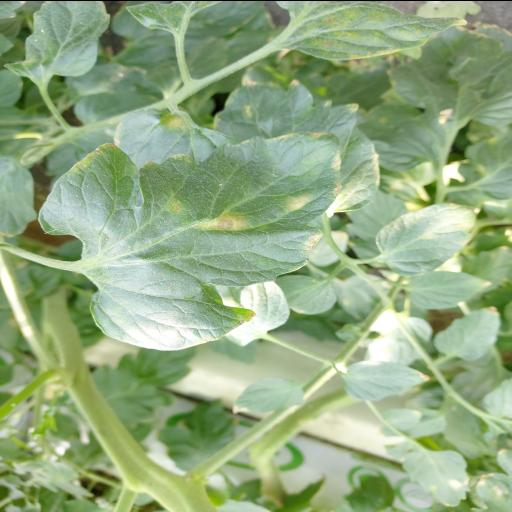Leaf Mold: (37, 129, 343, 348), (374, 202, 480, 276)
